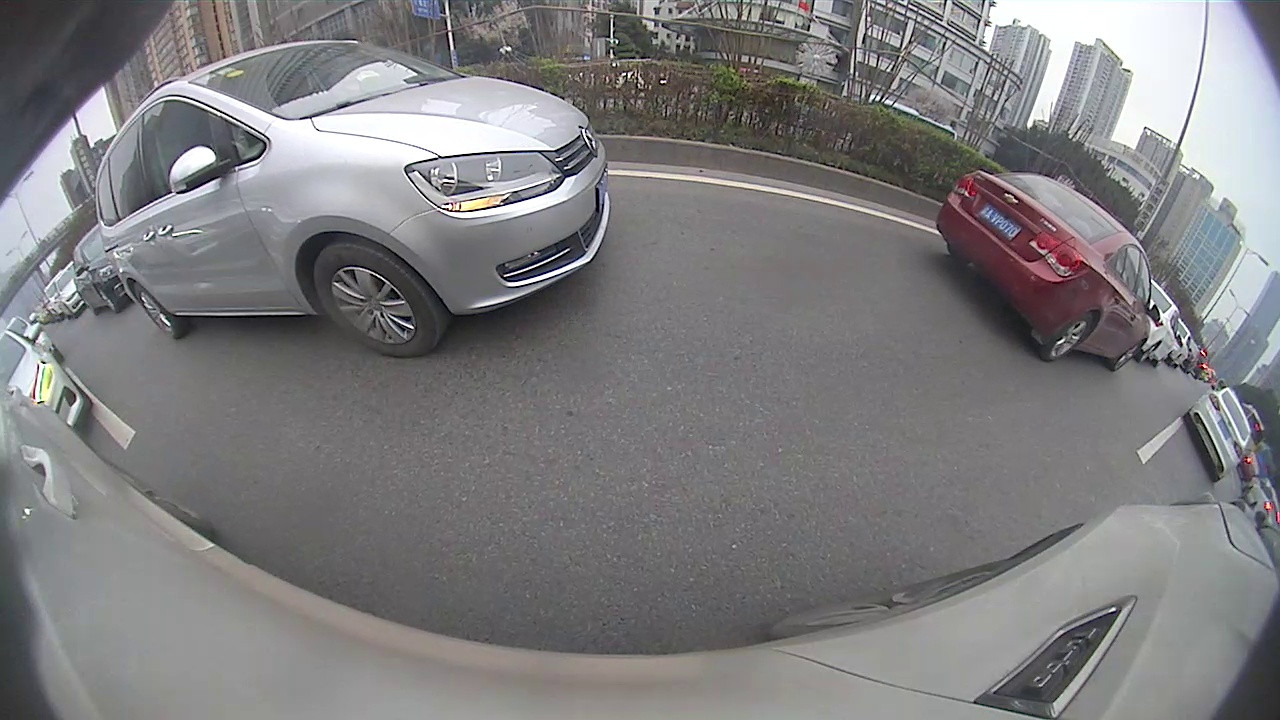bus: (433, 133, 535, 190)
car: (746, 123, 982, 264), (1, 289, 150, 442), (332, 157, 462, 217), (652, 156, 684, 181)
front: (748, 180, 764, 213)
rear: (78, 342, 118, 391), (821, 194, 852, 250)
